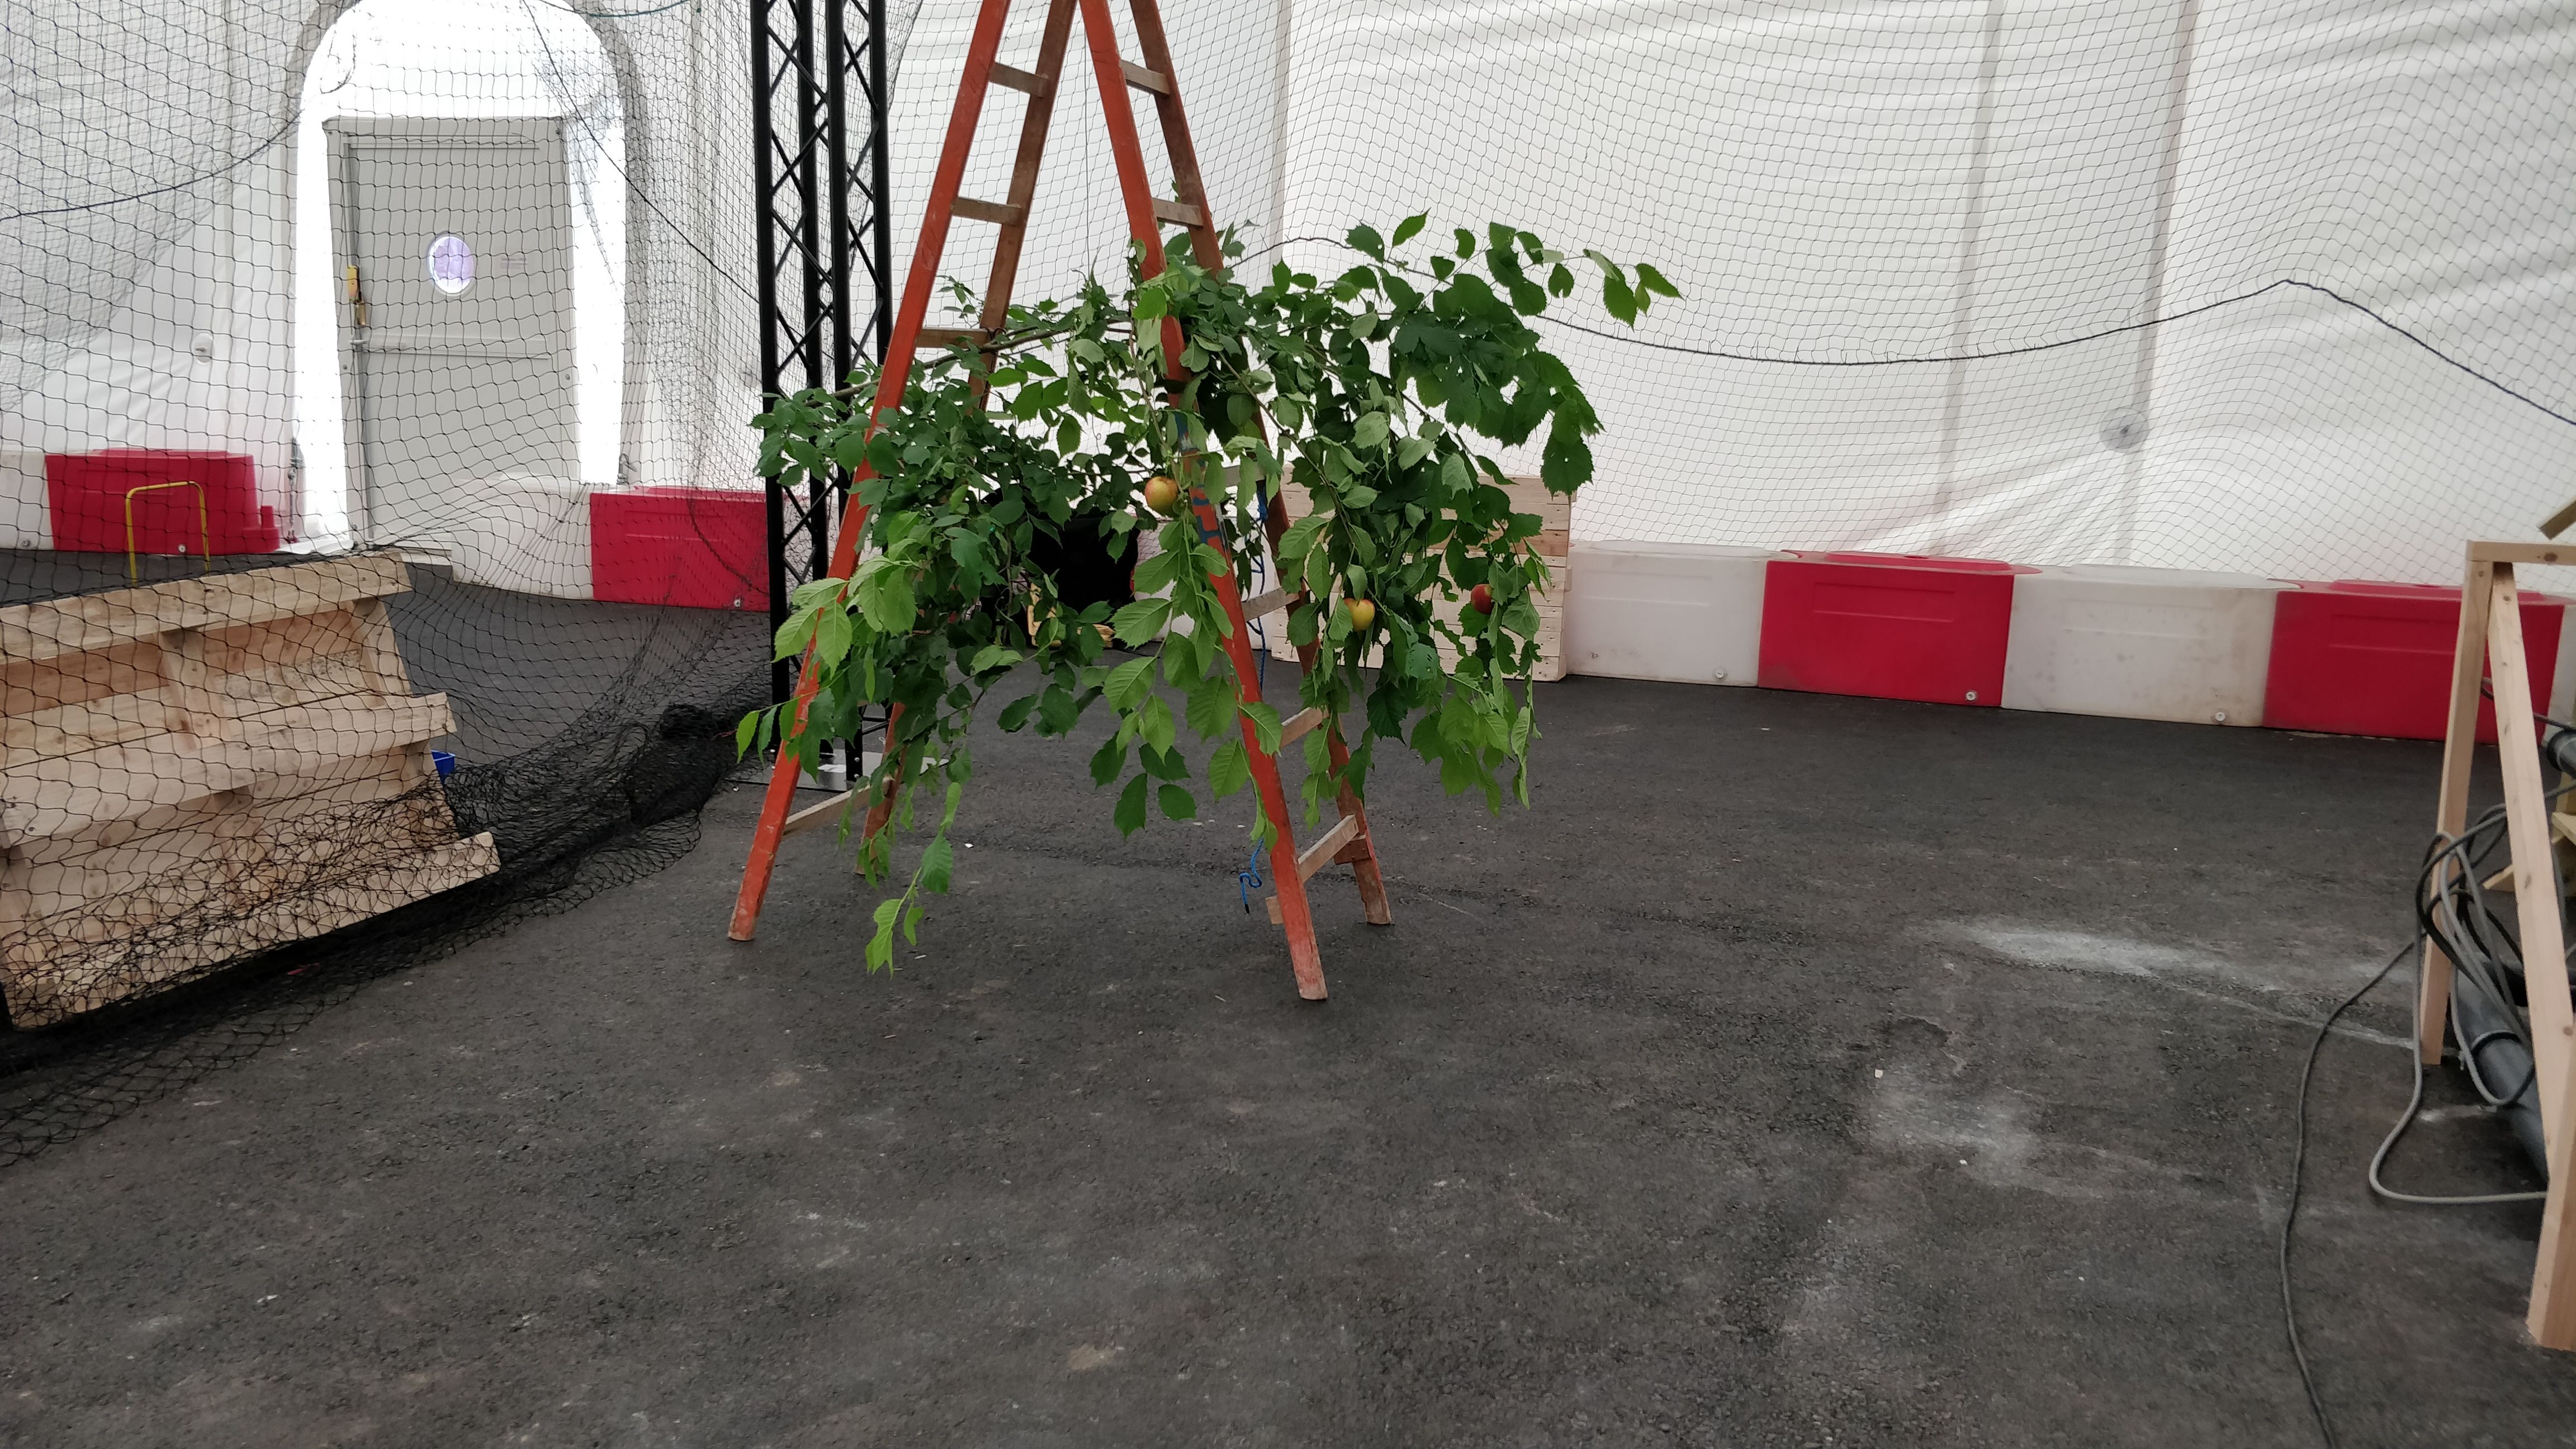apple: (1339, 598, 1375, 635), (1145, 478, 1178, 511), (1470, 584, 1497, 616)
